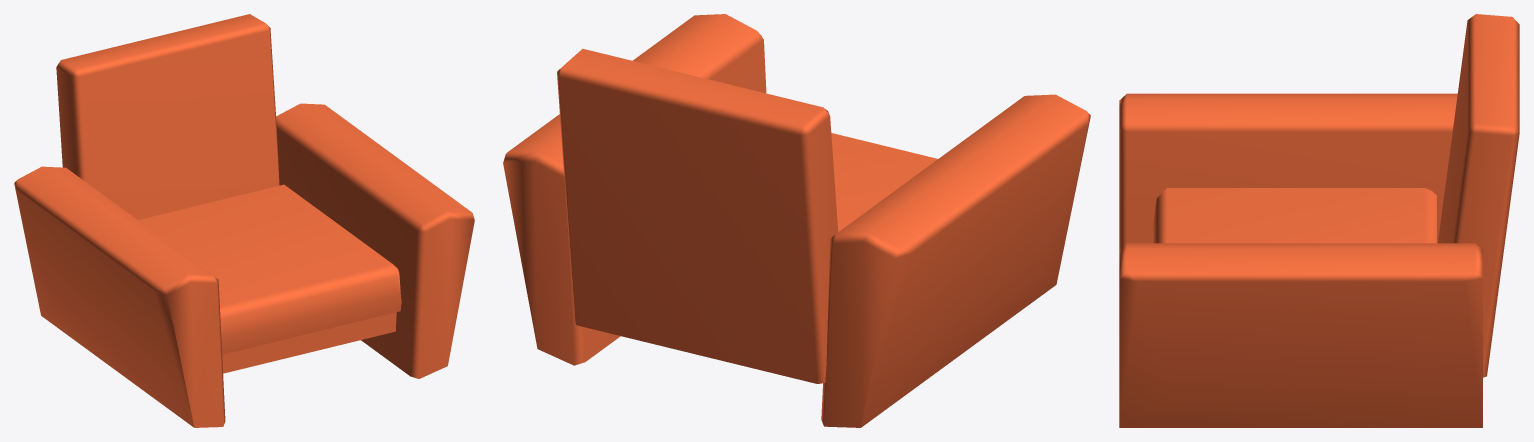
Rendered from armchair_004.glb.
3 renders of one model, left to right at view 1: azimuth 30°, elevation 25°; view 2: azimuth 150°, elevation 25°; view 3: azimuth 270°, elevation 25°, orthographic. The views are drawn at different scales.
Parts seen in each view (by area): view 1: armchair_004; view 2: armchair_004; view 3: armchair_004.
Part boxes in pixels (box(x1,y1,x2,y2)): armchair_004: box(14, 14, 474, 427); armchair_004: box(503, 14, 1090, 427); armchair_004: box(1119, 14, 1519, 427).
Size of the model in its own units: 1.03 by 0.7669 by 0.9491.
Materials: 1 (1 with a texture image).
